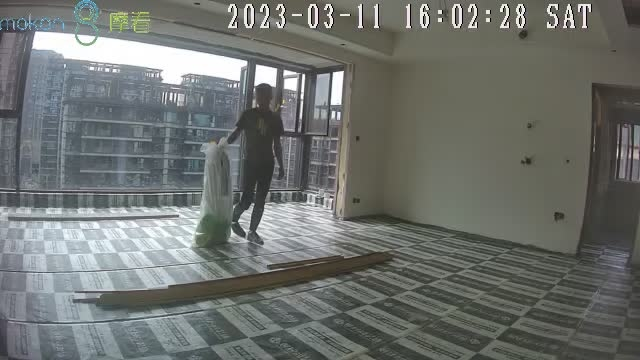people: (224, 83, 286, 244)
window: (2, 24, 342, 212)
